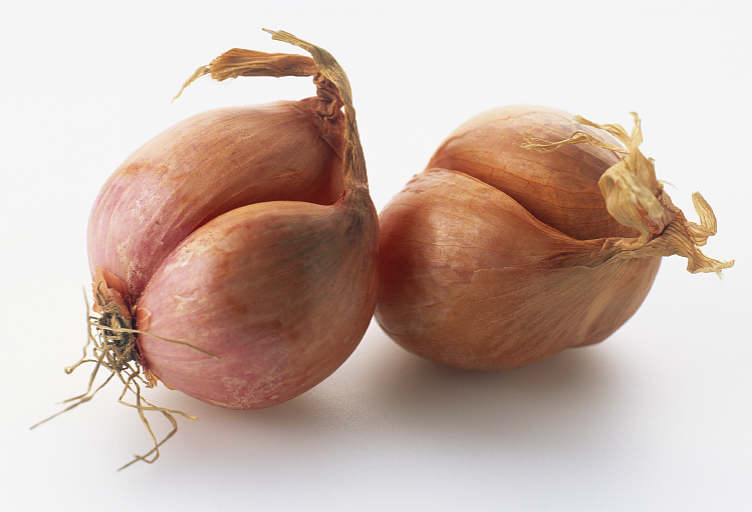onion: (26, 19, 383, 476), (371, 104, 734, 375)
